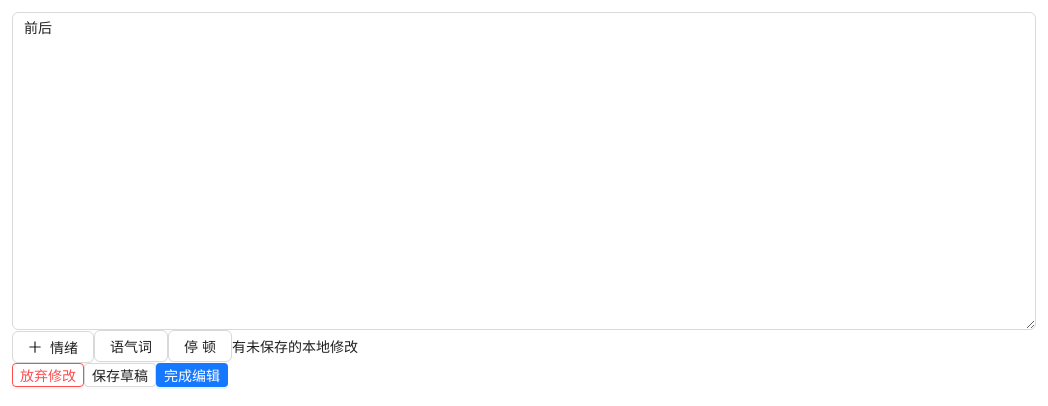
Test case: ScriptEditor › inserts a configured emotion at the saved caret and remembers it
Step 1. Click the button "情绪" → (53, 346), box [12,330,94,362]
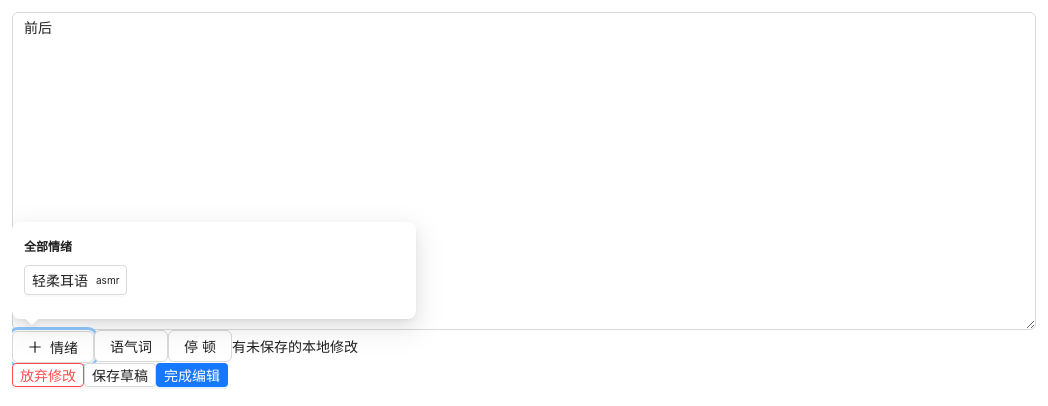
Step 2. Click the button "轻柔耳语 asmr" → (76, 280), box [24,265,127,295]
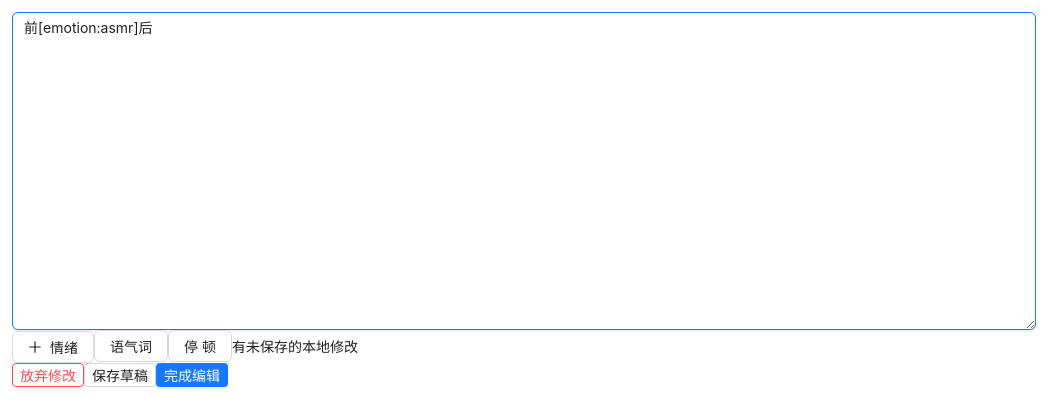
Expected: the text box holds "前[emotion:asmr]后"
